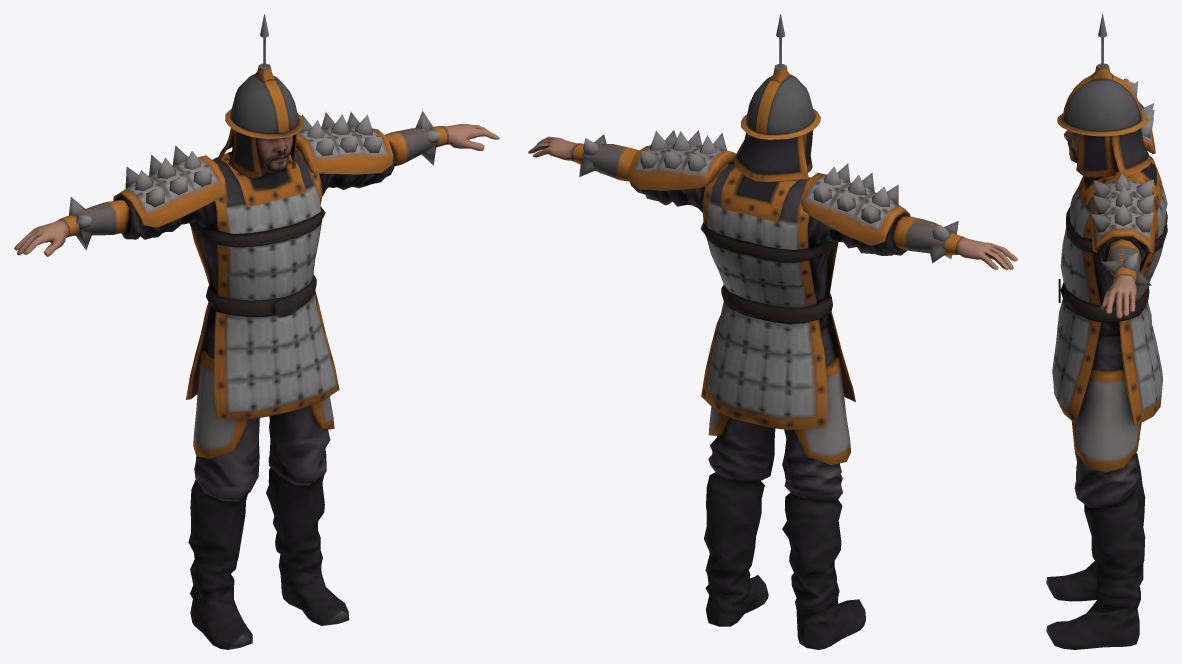
The model's file is sonjen-daimyo.obj.
The picture shows the model from 3 angles, left to right: view 1: azimuth 30°, elevation 25°; view 2: azimuth 150°, elevation 25°; view 3: azimuth 270°, elevation 25°; orthographic projection.
Parts seen in each view (by area): view 1: Sonjen_Daimyo; view 2: Sonjen_Daimyo; view 3: Sonjen_Daimyo.
Boxes of the visible parts, <box> form: Sonjen_Daimyo: <box>14,14,499,649</box>; Sonjen_Daimyo: <box>528,14,1017,649</box>; Sonjen_Daimyo: <box>1046,14,1167,649</box>.
Size of the model in its own units: 4.67 by 5.66 by 1.03.
Materials: 1 (1 with a texture image).
